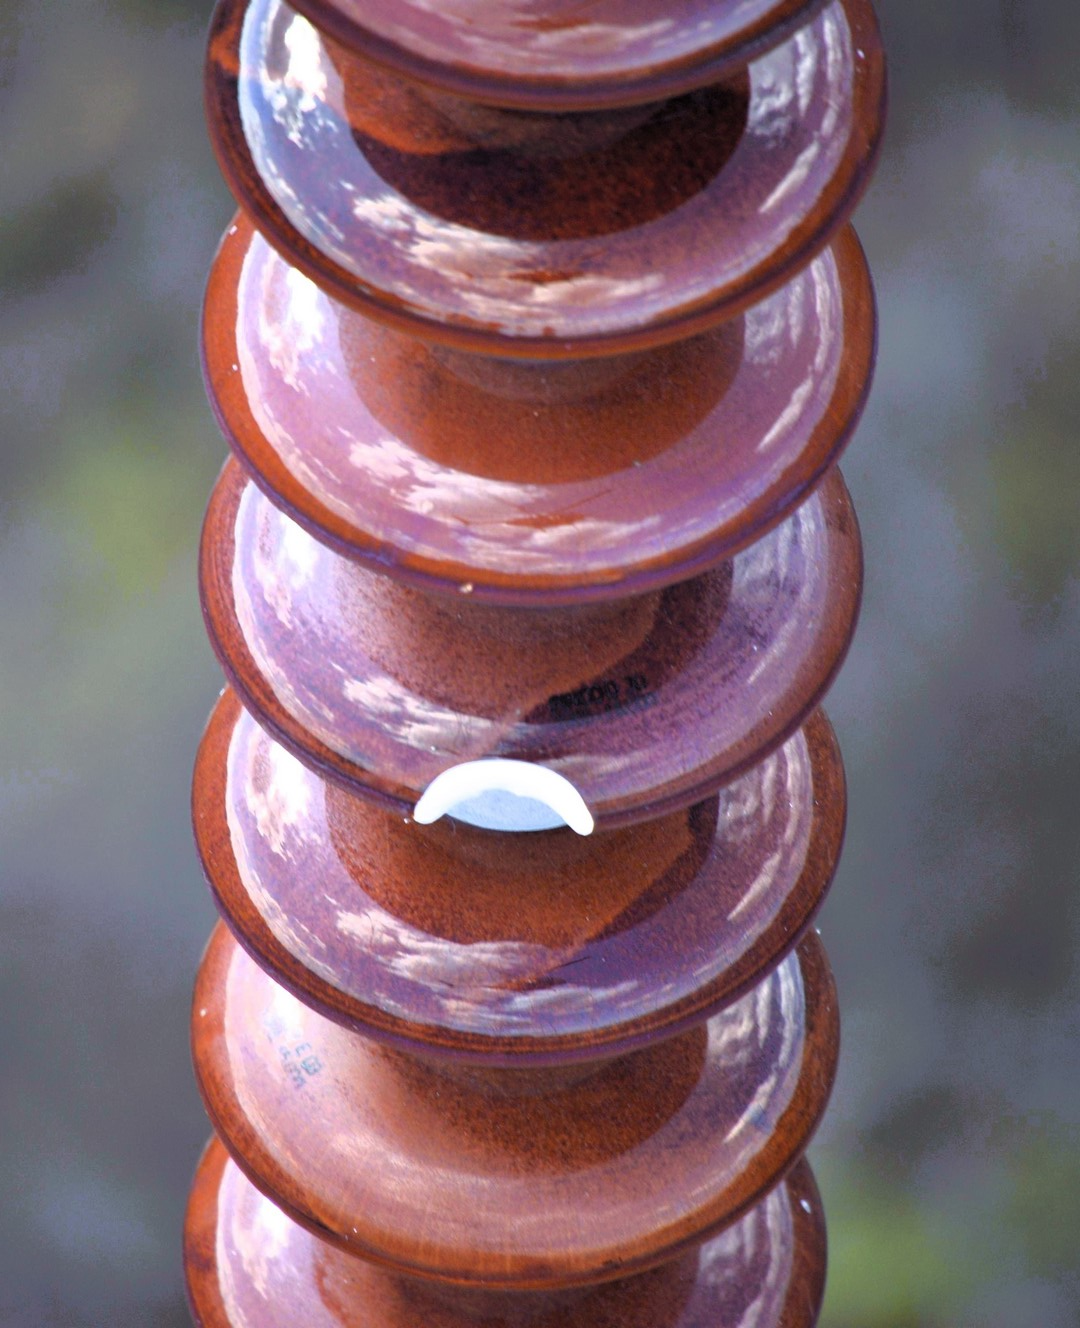insulator breakage: (168, 532, 881, 847)
